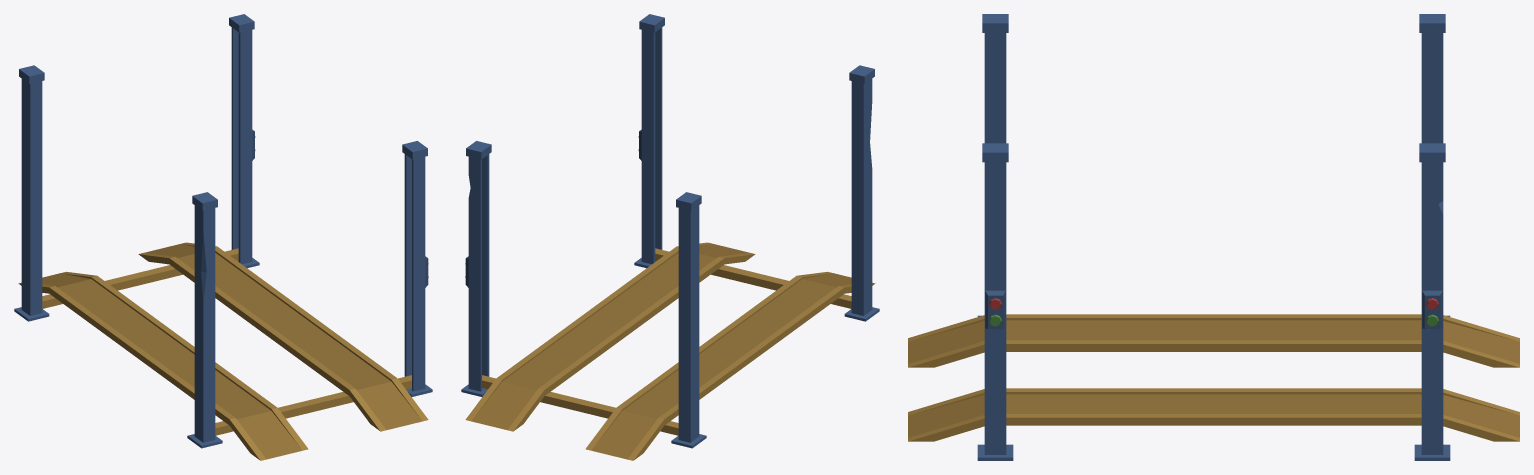
The model's file is SM_Props_Interior_Shop_AutoRepair_CarLift_02.fbx.
The picture shows the model from 3 angles, left to right: view 1: azimuth 30°, elevation 25°; view 2: azimuth 150°, elevation 25°; view 3: azimuth 270°, elevation 25°; orthographic projection. The views are drawn at different scales.
Parts seen in each view (by area): view 1: SM_Props_Interior_Shop_AutoRepair_CarLift_02_Lift, SM_Props_Interior_Shop_AutoRepair_CarLift_02; view 2: SM_Props_Interior_Shop_AutoRepair_CarLift_02_Lift, SM_Props_Interior_Shop_AutoRepair_CarLift_02; view 3: SM_Props_Interior_Shop_AutoRepair_CarLift_02_Lift, SM_Props_Interior_Shop_AutoRepair_CarLift_02.
Boxes of the visible parts, x1,y1,x2,y2 form: SM_Props_Interior_Shop_AutoRepair_CarLift_02_Lift: [18, 242, 428, 460]; SM_Props_Interior_Shop_AutoRepair_CarLift_02: [14, 14, 432, 448]; SM_Props_Interior_Shop_AutoRepair_CarLift_02_Lift: [465, 242, 875, 460]; SM_Props_Interior_Shop_AutoRepair_CarLift_02: [461, 14, 879, 448]; SM_Props_Interior_Shop_AutoRepair_CarLift_02_Lift: [908, 314, 1519, 441]; SM_Props_Interior_Shop_AutoRepair_CarLift_02: [977, 14, 1450, 460].
Size of the model in its own units: 387 by 387 by 700.
